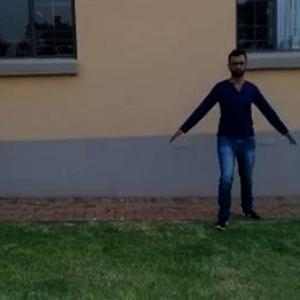land: (181, 50, 290, 216)
